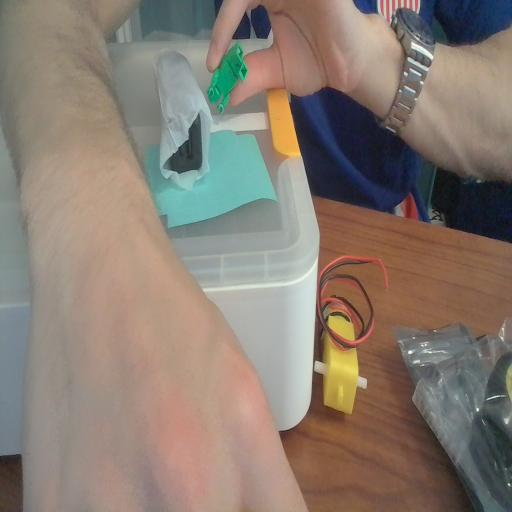green LEGO minifig: (208, 43, 249, 116)
